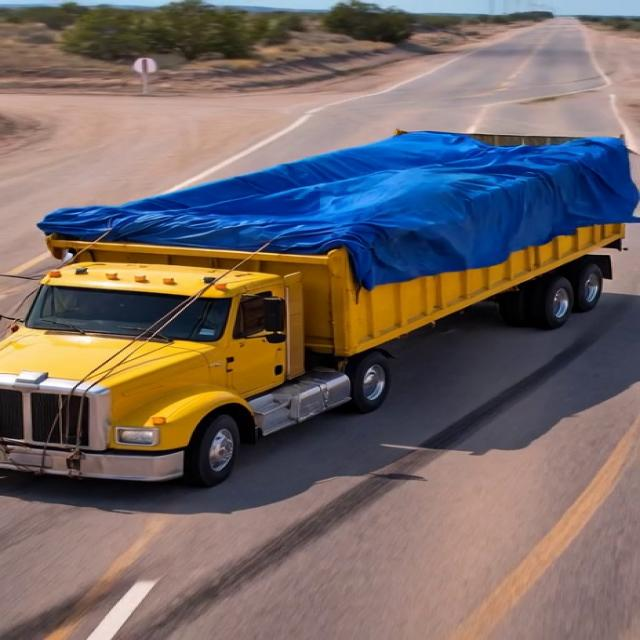trailer: (49, 132, 626, 255)
truck: (11, 63, 634, 472)
